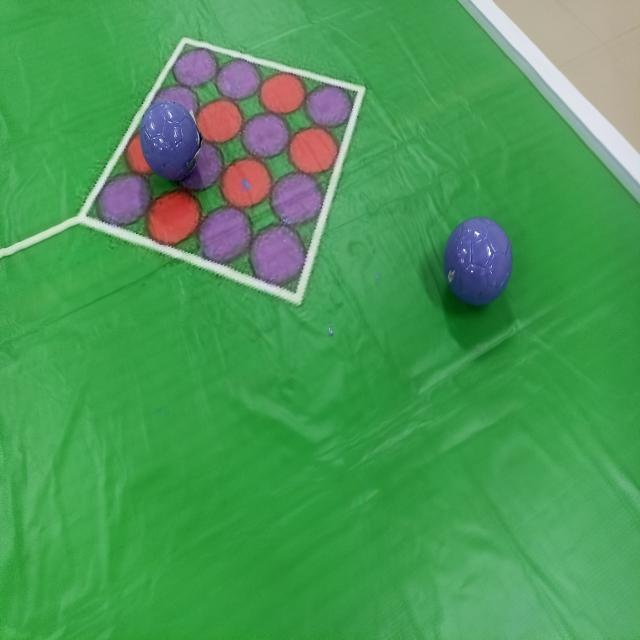purple_ball: (444, 218, 512, 304), (142, 101, 200, 182)
